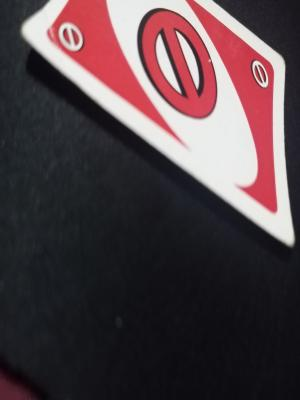skip: (129, 0, 224, 129), (53, 8, 87, 64), (250, 52, 273, 97)
